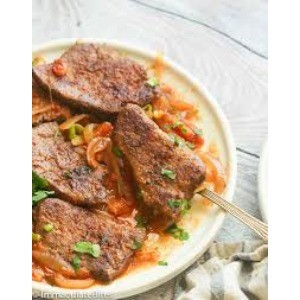liver_brain food: (34, 140, 95, 284), (123, 116, 198, 216), (55, 45, 119, 117)
